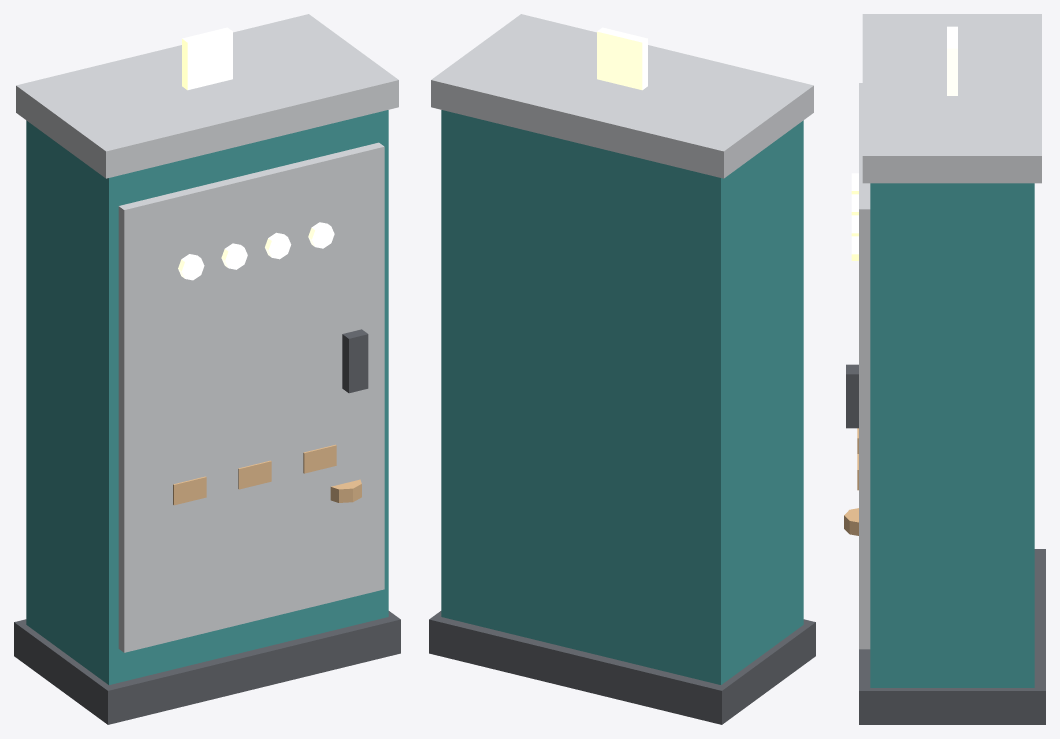
Rendered from chocolate-and-confectionery-factory-control-panel-119e842c__36795.glb.
3 renders of one model, left to right at view 1: azimuth 30°, elevation 25°; view 2: azimuth 150°, elevation 25°; view 3: azimuth 270°, elevation 25°, orthographic.
Parts seen in each view (by area): view 1: control-panel, door-panel/steel, door-panel/dark; view 2: control-panel; view 3: control-panel, door-panel/steel, door-panel/dark.
Boxes of the visible parts, x1,y1,x2,y2 form: control-panel: (14, 14, 400, 724); door-panel/steel: (118, 142, 384, 652); door-panel/dark: (342, 329, 368, 393); control-panel: (429, 14, 815, 724); control-panel: (844, 14, 1045, 724); door-panel/steel: (859, 83, 870, 649); door-panel/dark: (846, 364, 858, 428).
Size of the model in its own units: 0.9 by 1.82 by 0.54.
